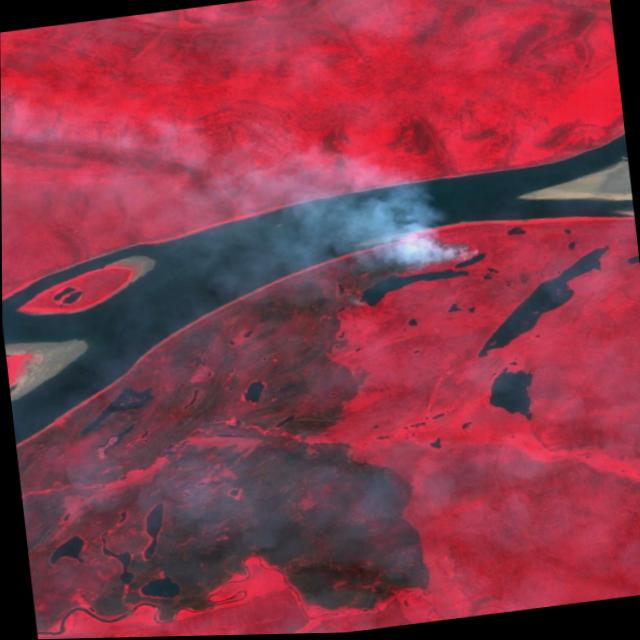fire: (395, 225, 479, 280)
